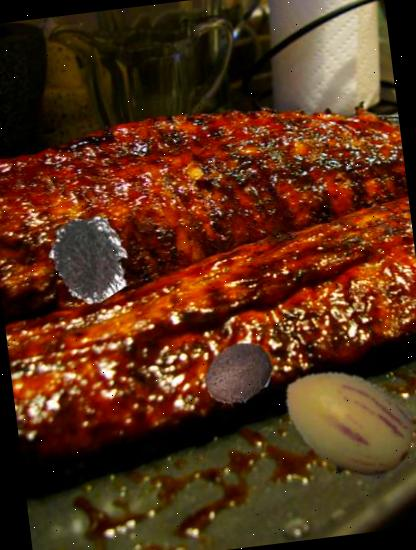Cocos: (198, 333, 279, 414)
Pepino: (268, 347, 416, 504)
Rambutan: (43, 210, 139, 306)
